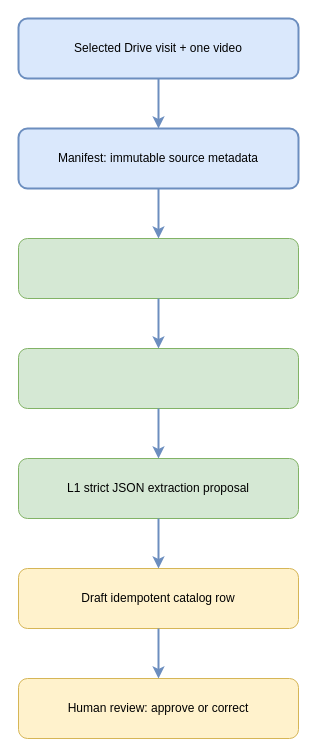
Image size: 316x756. Some labels were removed from this diagram. The shapes that lost their labels are listed below. From the top down, each one's centre as x and y in pixels, then its label:
(x=158, y=268): ffprobe + ffmpeg: mono 16 kHz WAV
(x=158, y=378): GCS staging + Chirp BatchRecognize
